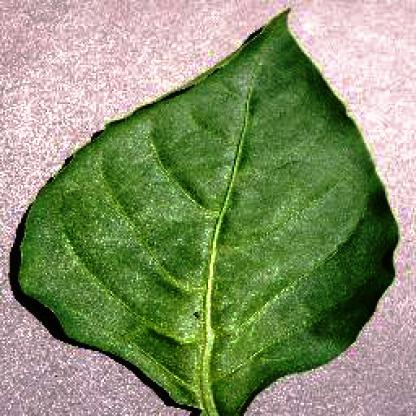Healthy: (15, 7, 398, 414)
